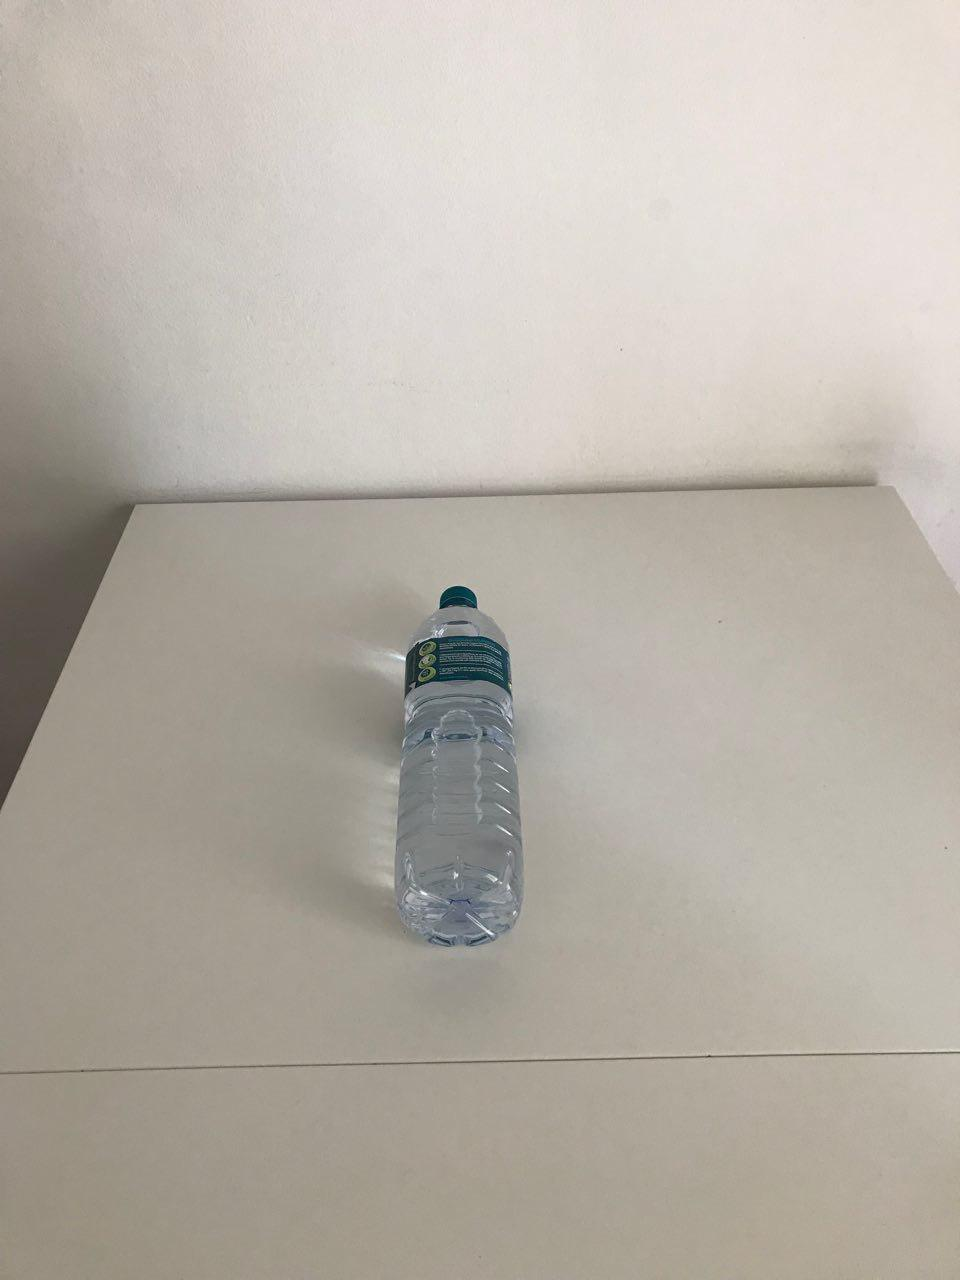san_bernardo: (393, 584, 527, 949)
